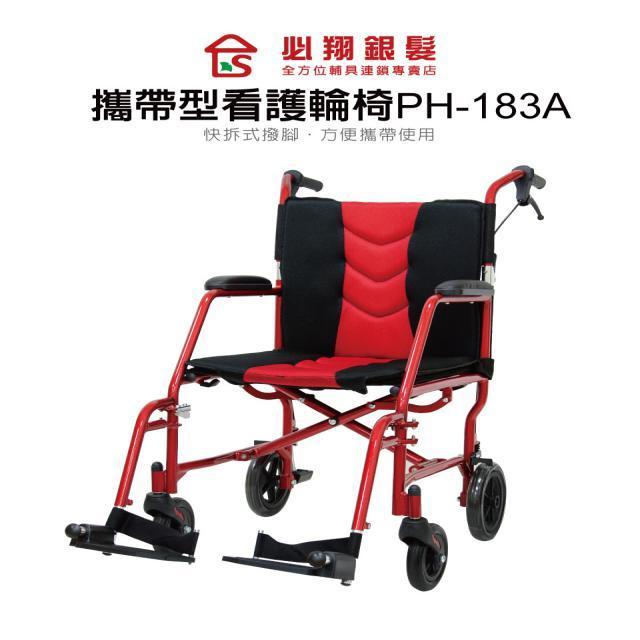wheelchairs: (69, 171, 576, 589)
